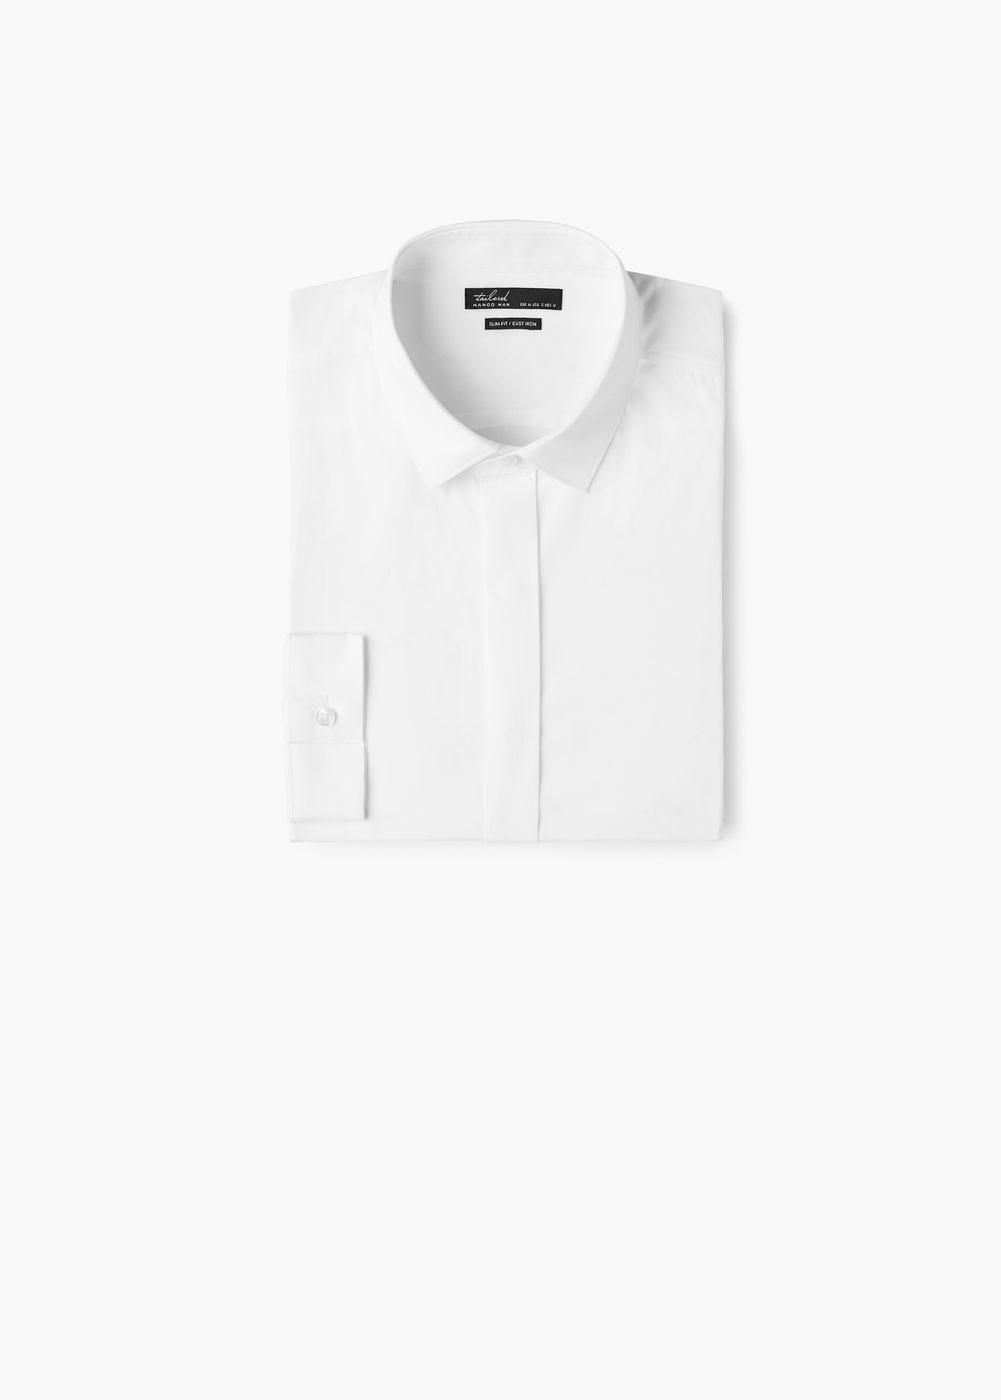teeshirt: (270, 204, 765, 846)
